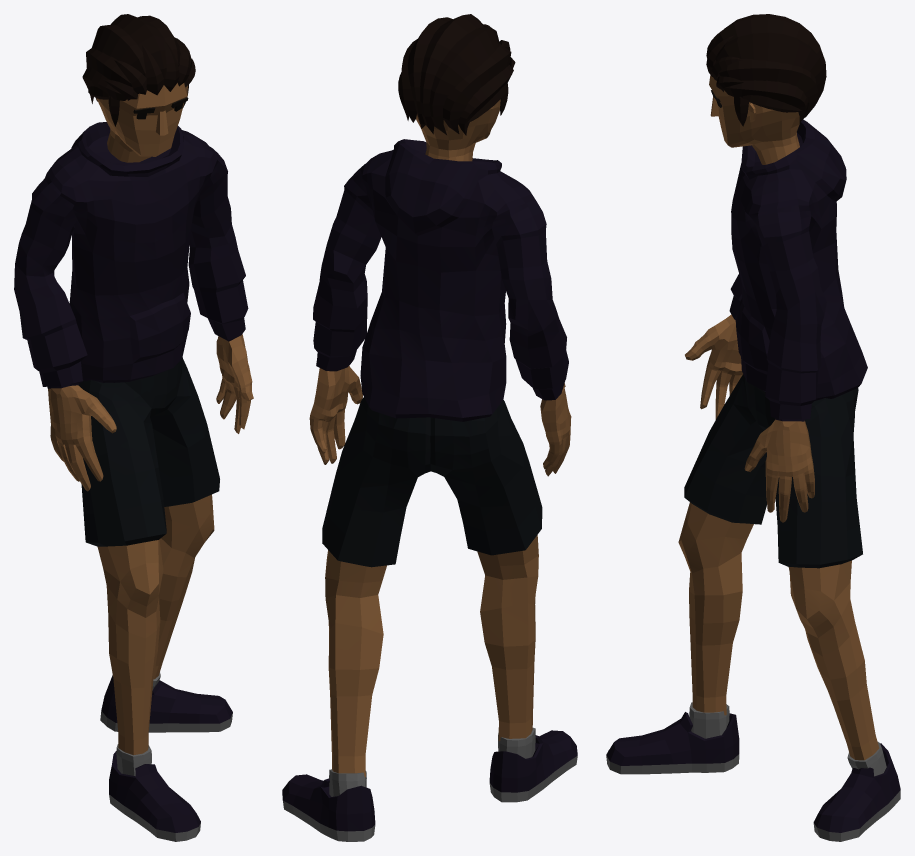
Rendered from orangkampus2.obj.
3 renders of one model, left to right at view 1: azimuth 30°, elevation 25°; view 2: azimuth 150°, elevation 25°; view 3: azimuth 270°, elevation 25°, orthographic. The views are drawn at different scales.
Visible parts, largest first — view 1: Casual_Body, Casual_Legs, Casual_Head, Casual_Feet; view 2: Casual_Body, Casual_Legs, Casual_Head, Casual_Feet; view 3: Casual_Legs, Casual_Body, Casual_Head, Casual_Feet.
Boxes of the visible parts, x1,y1,x2,y2 form: Casual_Body: (14, 122, 253, 491); Casual_Legs: (78, 357, 219, 755); Casual_Head: (82, 14, 195, 162); Casual_Feet: (100, 672, 232, 841); Casual_Body: (309, 139, 571, 476); Casual_Legs: (322, 397, 542, 777); Casual_Head: (398, 14, 515, 161); Casual_Feet: (282, 727, 577, 841); Casual_Legs: (678, 374, 879, 760); Casual_Body: (685, 119, 867, 522); Casual_Head: (706, 14, 826, 164); Casual_Feet: (606, 702, 900, 841).
Size of the model in its own units: 0.9849 by 2.99 by 1.05.
